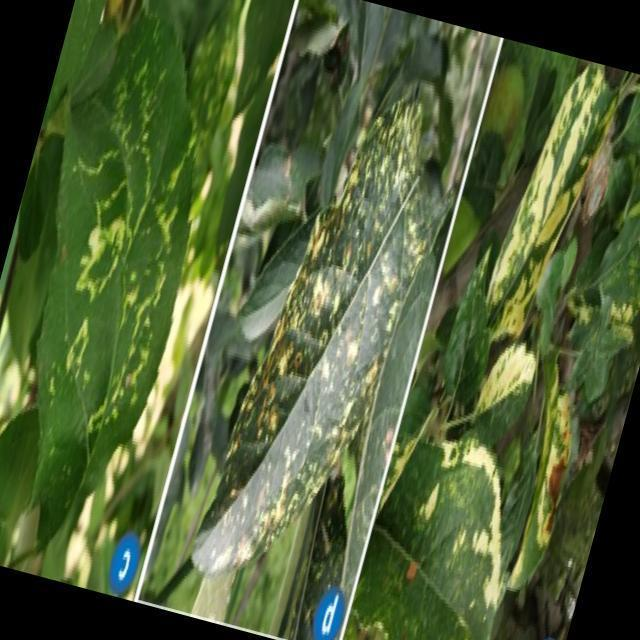Mosaic Virus: (185, 92, 452, 612), (8, 0, 252, 456), (482, 56, 622, 342), (383, 409, 538, 627), (469, 328, 547, 448)
